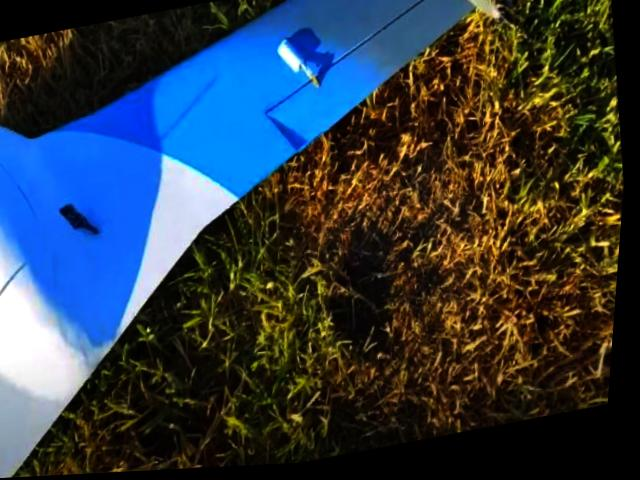iha: (0, 0, 579, 480)
